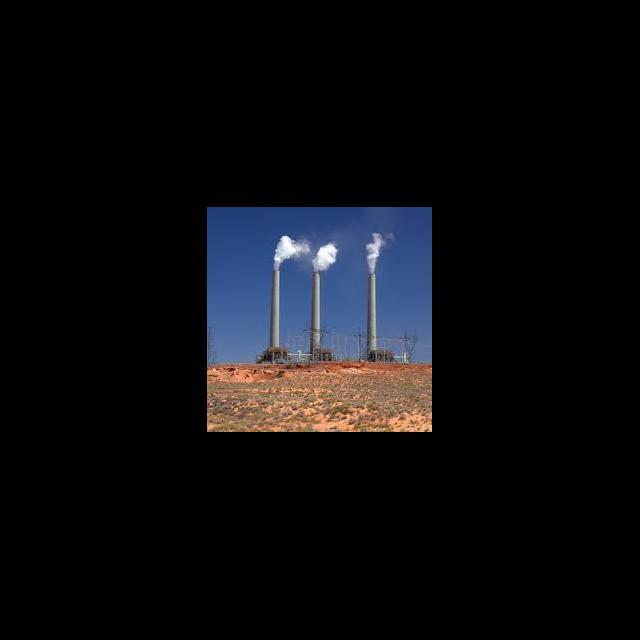Smoke: (273, 236, 309, 270), (365, 234, 385, 272), (315, 244, 340, 270)
